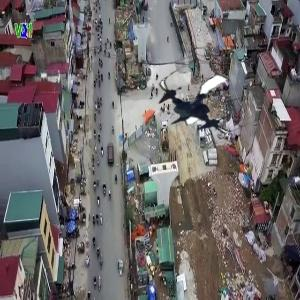drone: (159, 58, 249, 148)
